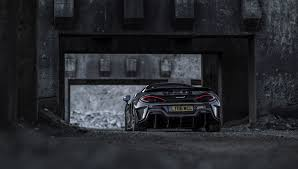car: (113, 80, 235, 135)
